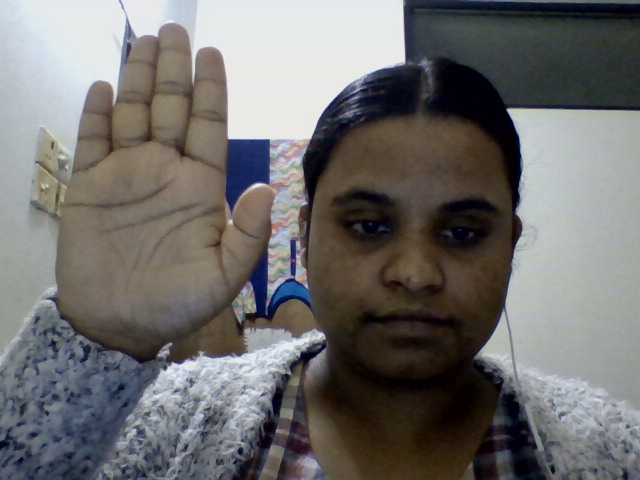hello: (33, 17, 310, 350)
